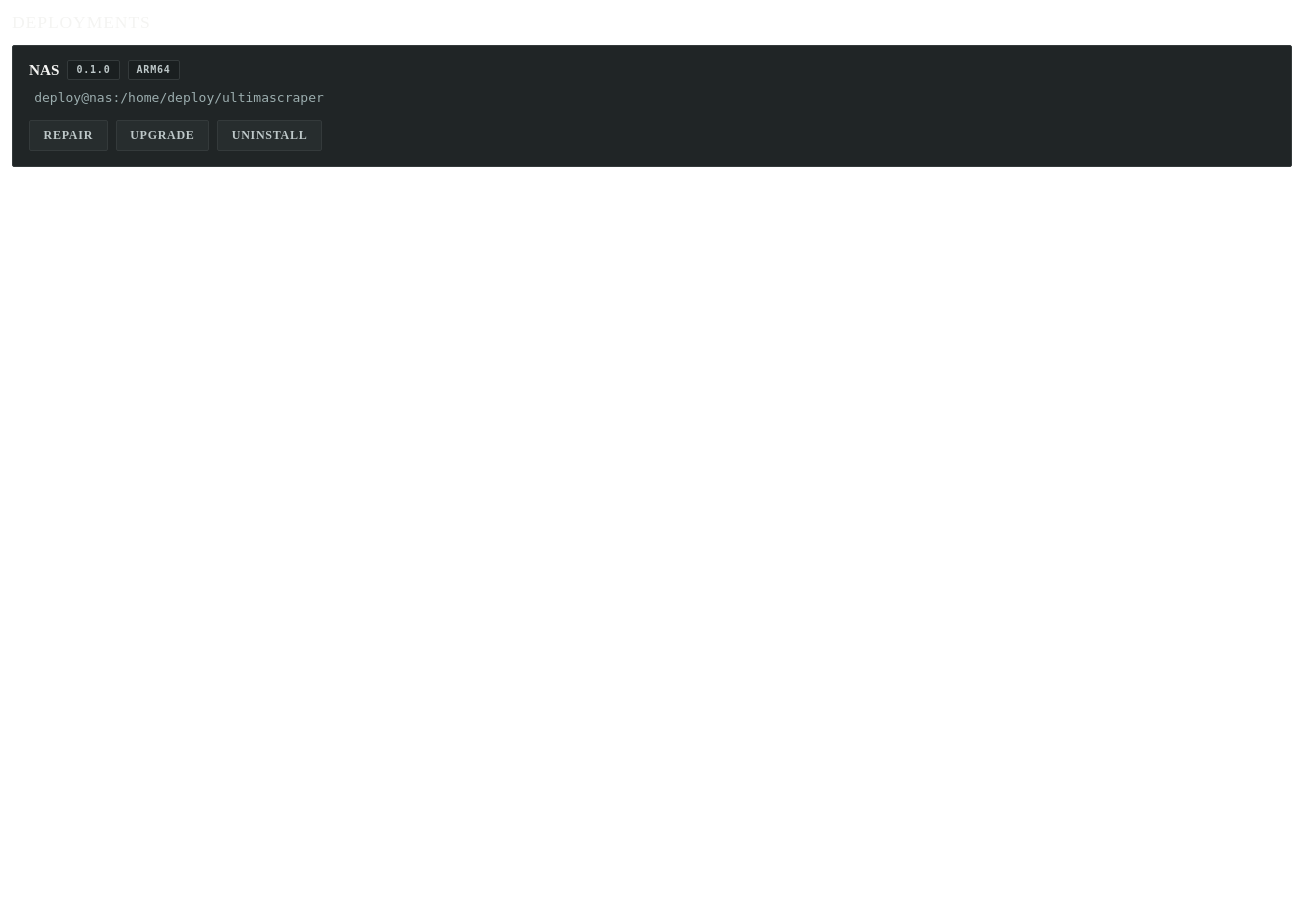
Test: DeploymentsSection › only uninstalls after the WebUI password is given, and shows a wrong one
Click the button "Uninstall" at (270, 136), box [217, 120, 322, 151]
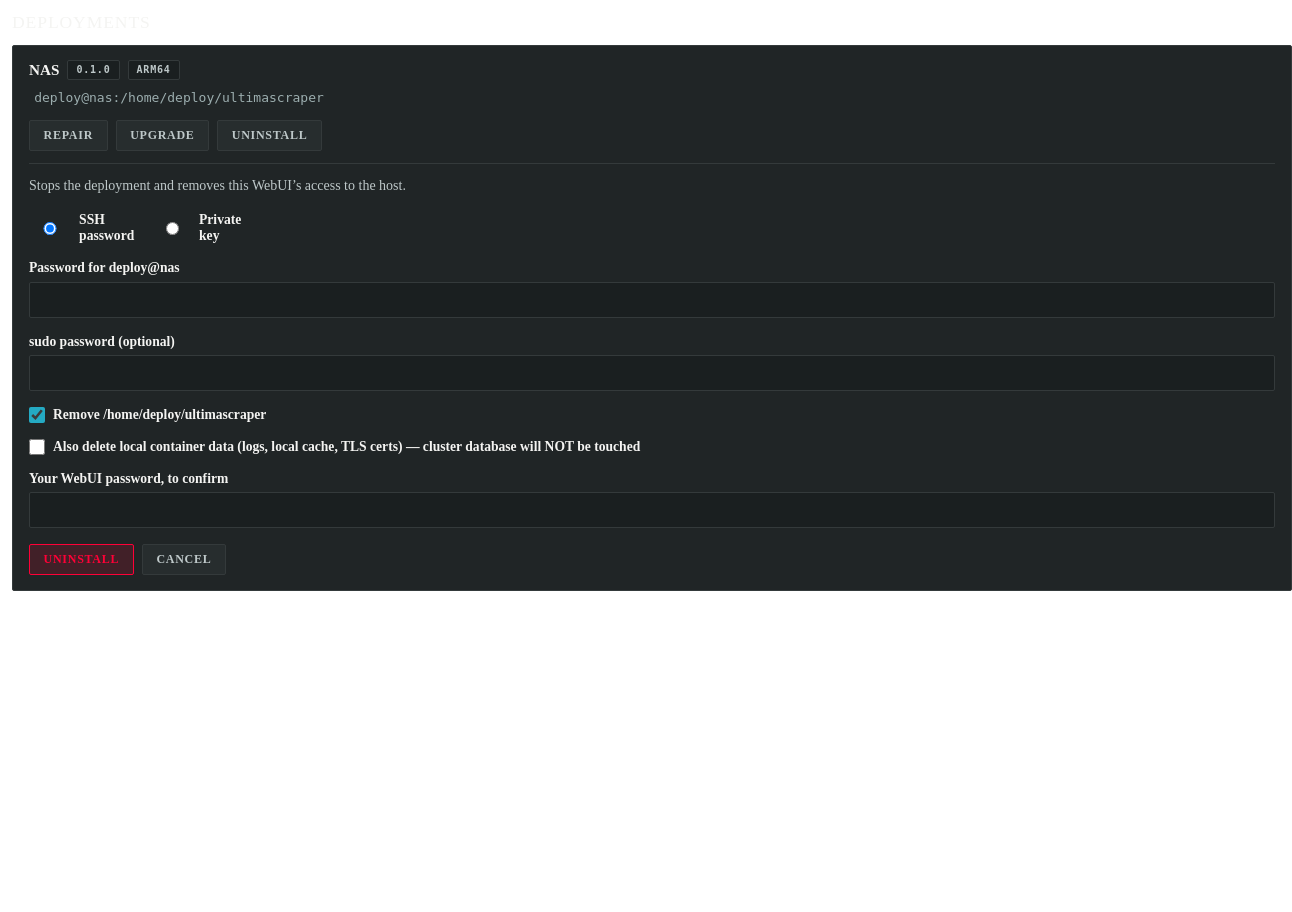
Note: Repair and upgrade never ask for it.
Click the button "Repair" at (68, 136), box [29, 120, 108, 151]
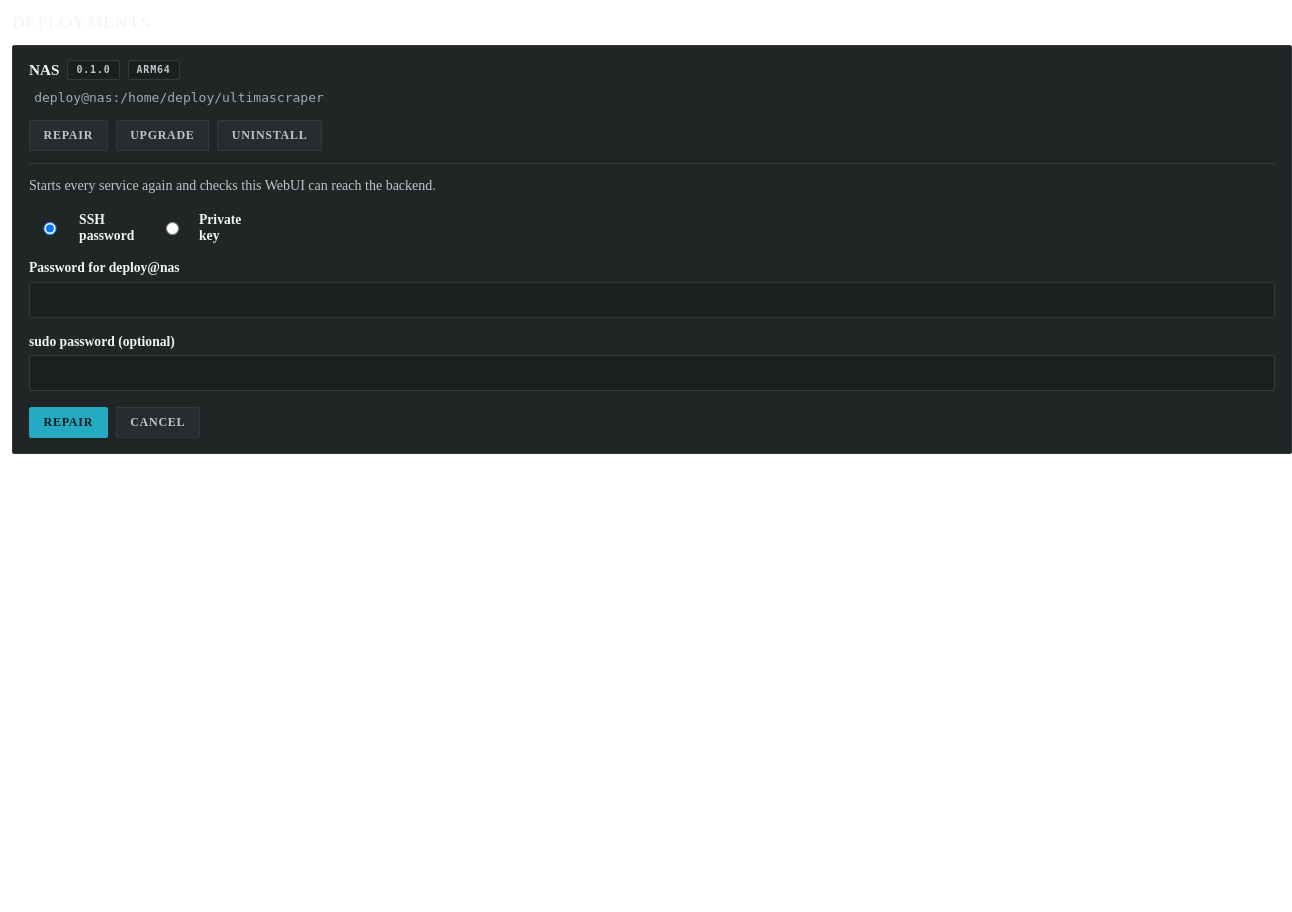
Expected: the text labelled "Your WebUI password, to confirm" is gone
Click the button "Uninstall" at (270, 136), box [217, 120, 322, 151]
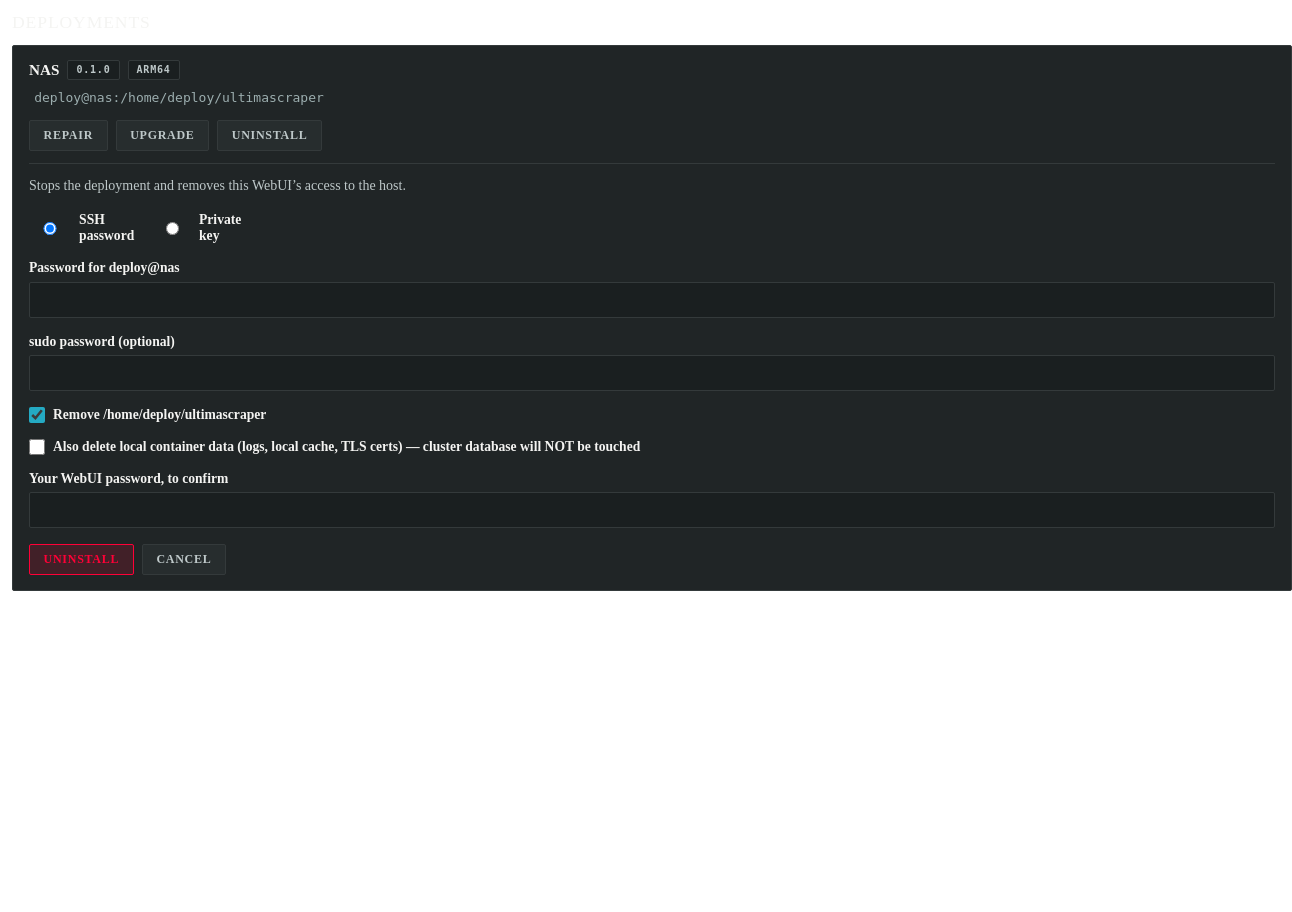
Type "ssh-password" into the password field labelled "Password for deploy@nas" at (652, 300), box [29, 282, 1275, 318]
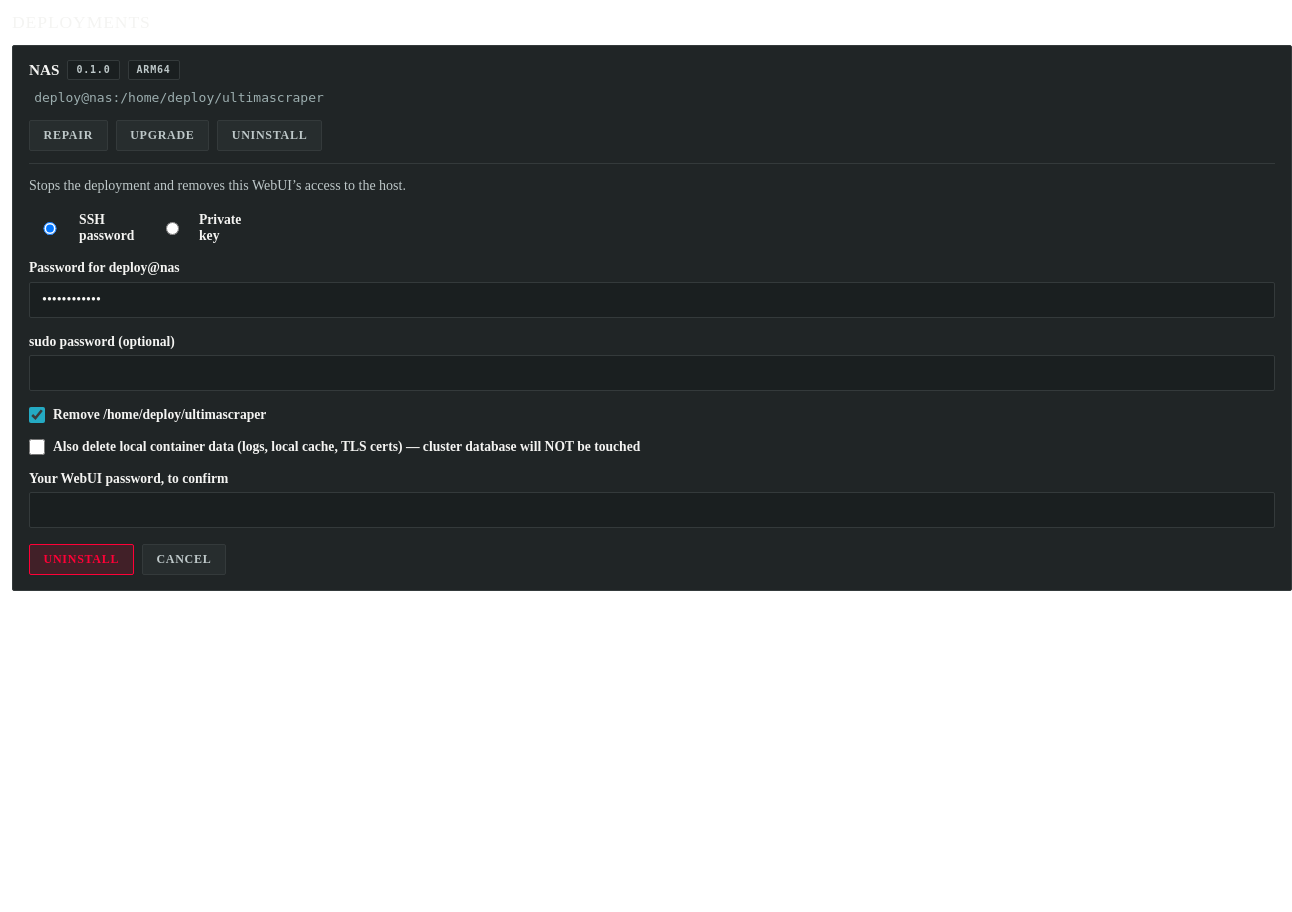
Type "wrong" into the password field labelled "Your WebUI password, to confirm" at (652, 510), box [29, 492, 1275, 528]
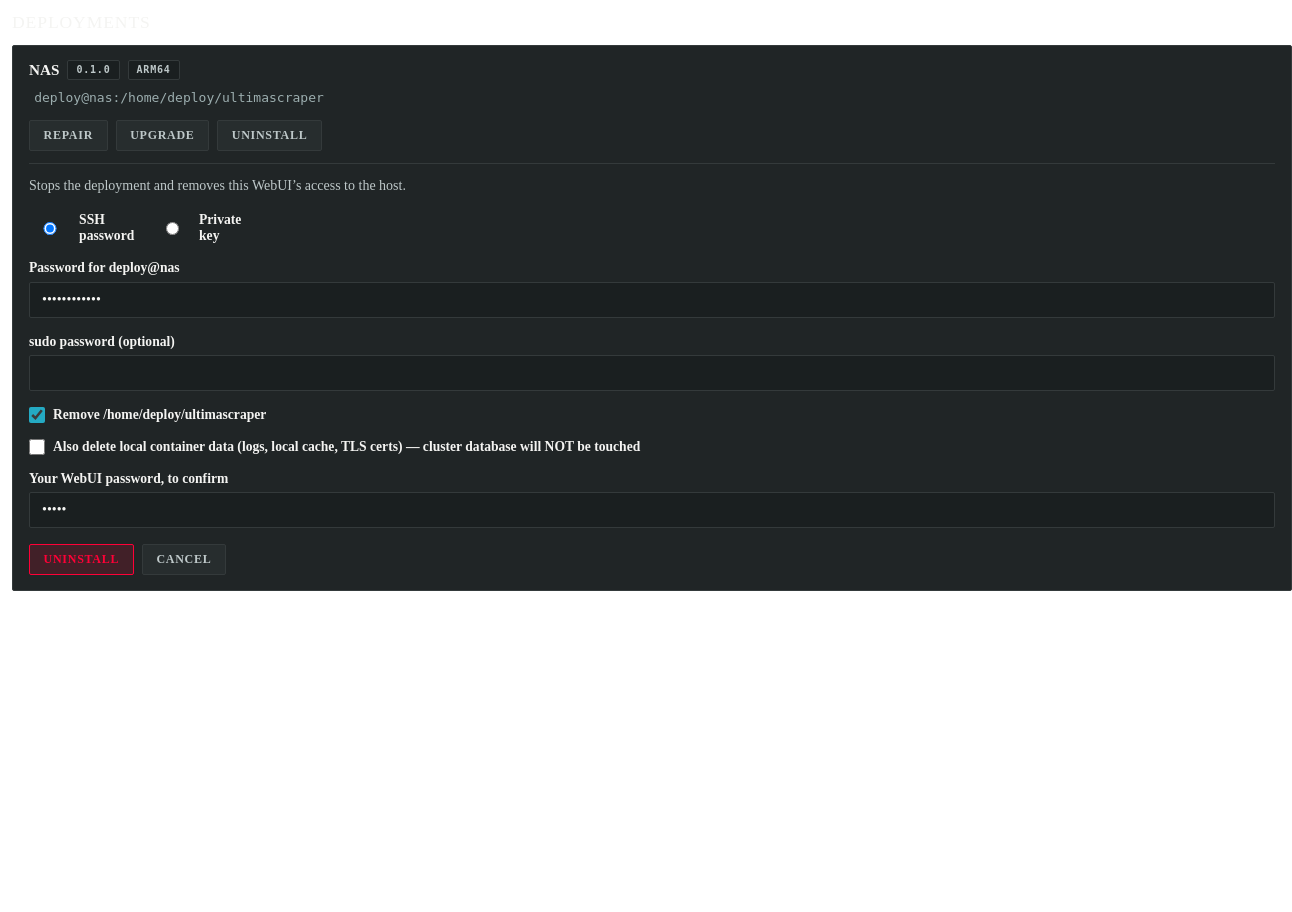
Click the button "Uninstall" below "Your WebUI password, to confirm" at (81, 560), box [29, 544, 134, 575]
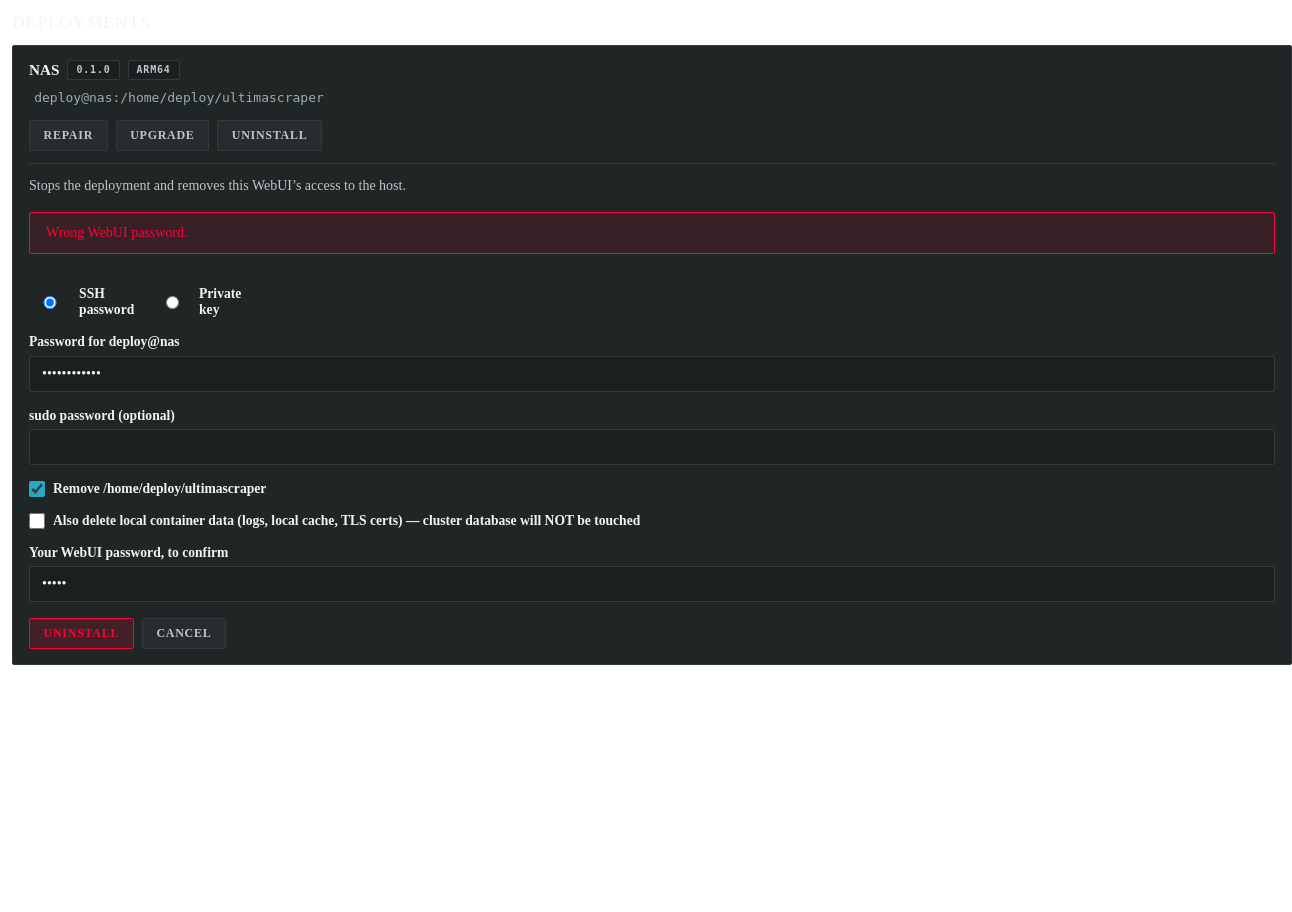
Expected: the message reads "Wrong WebUI password.", [46, 225, 188, 240]
